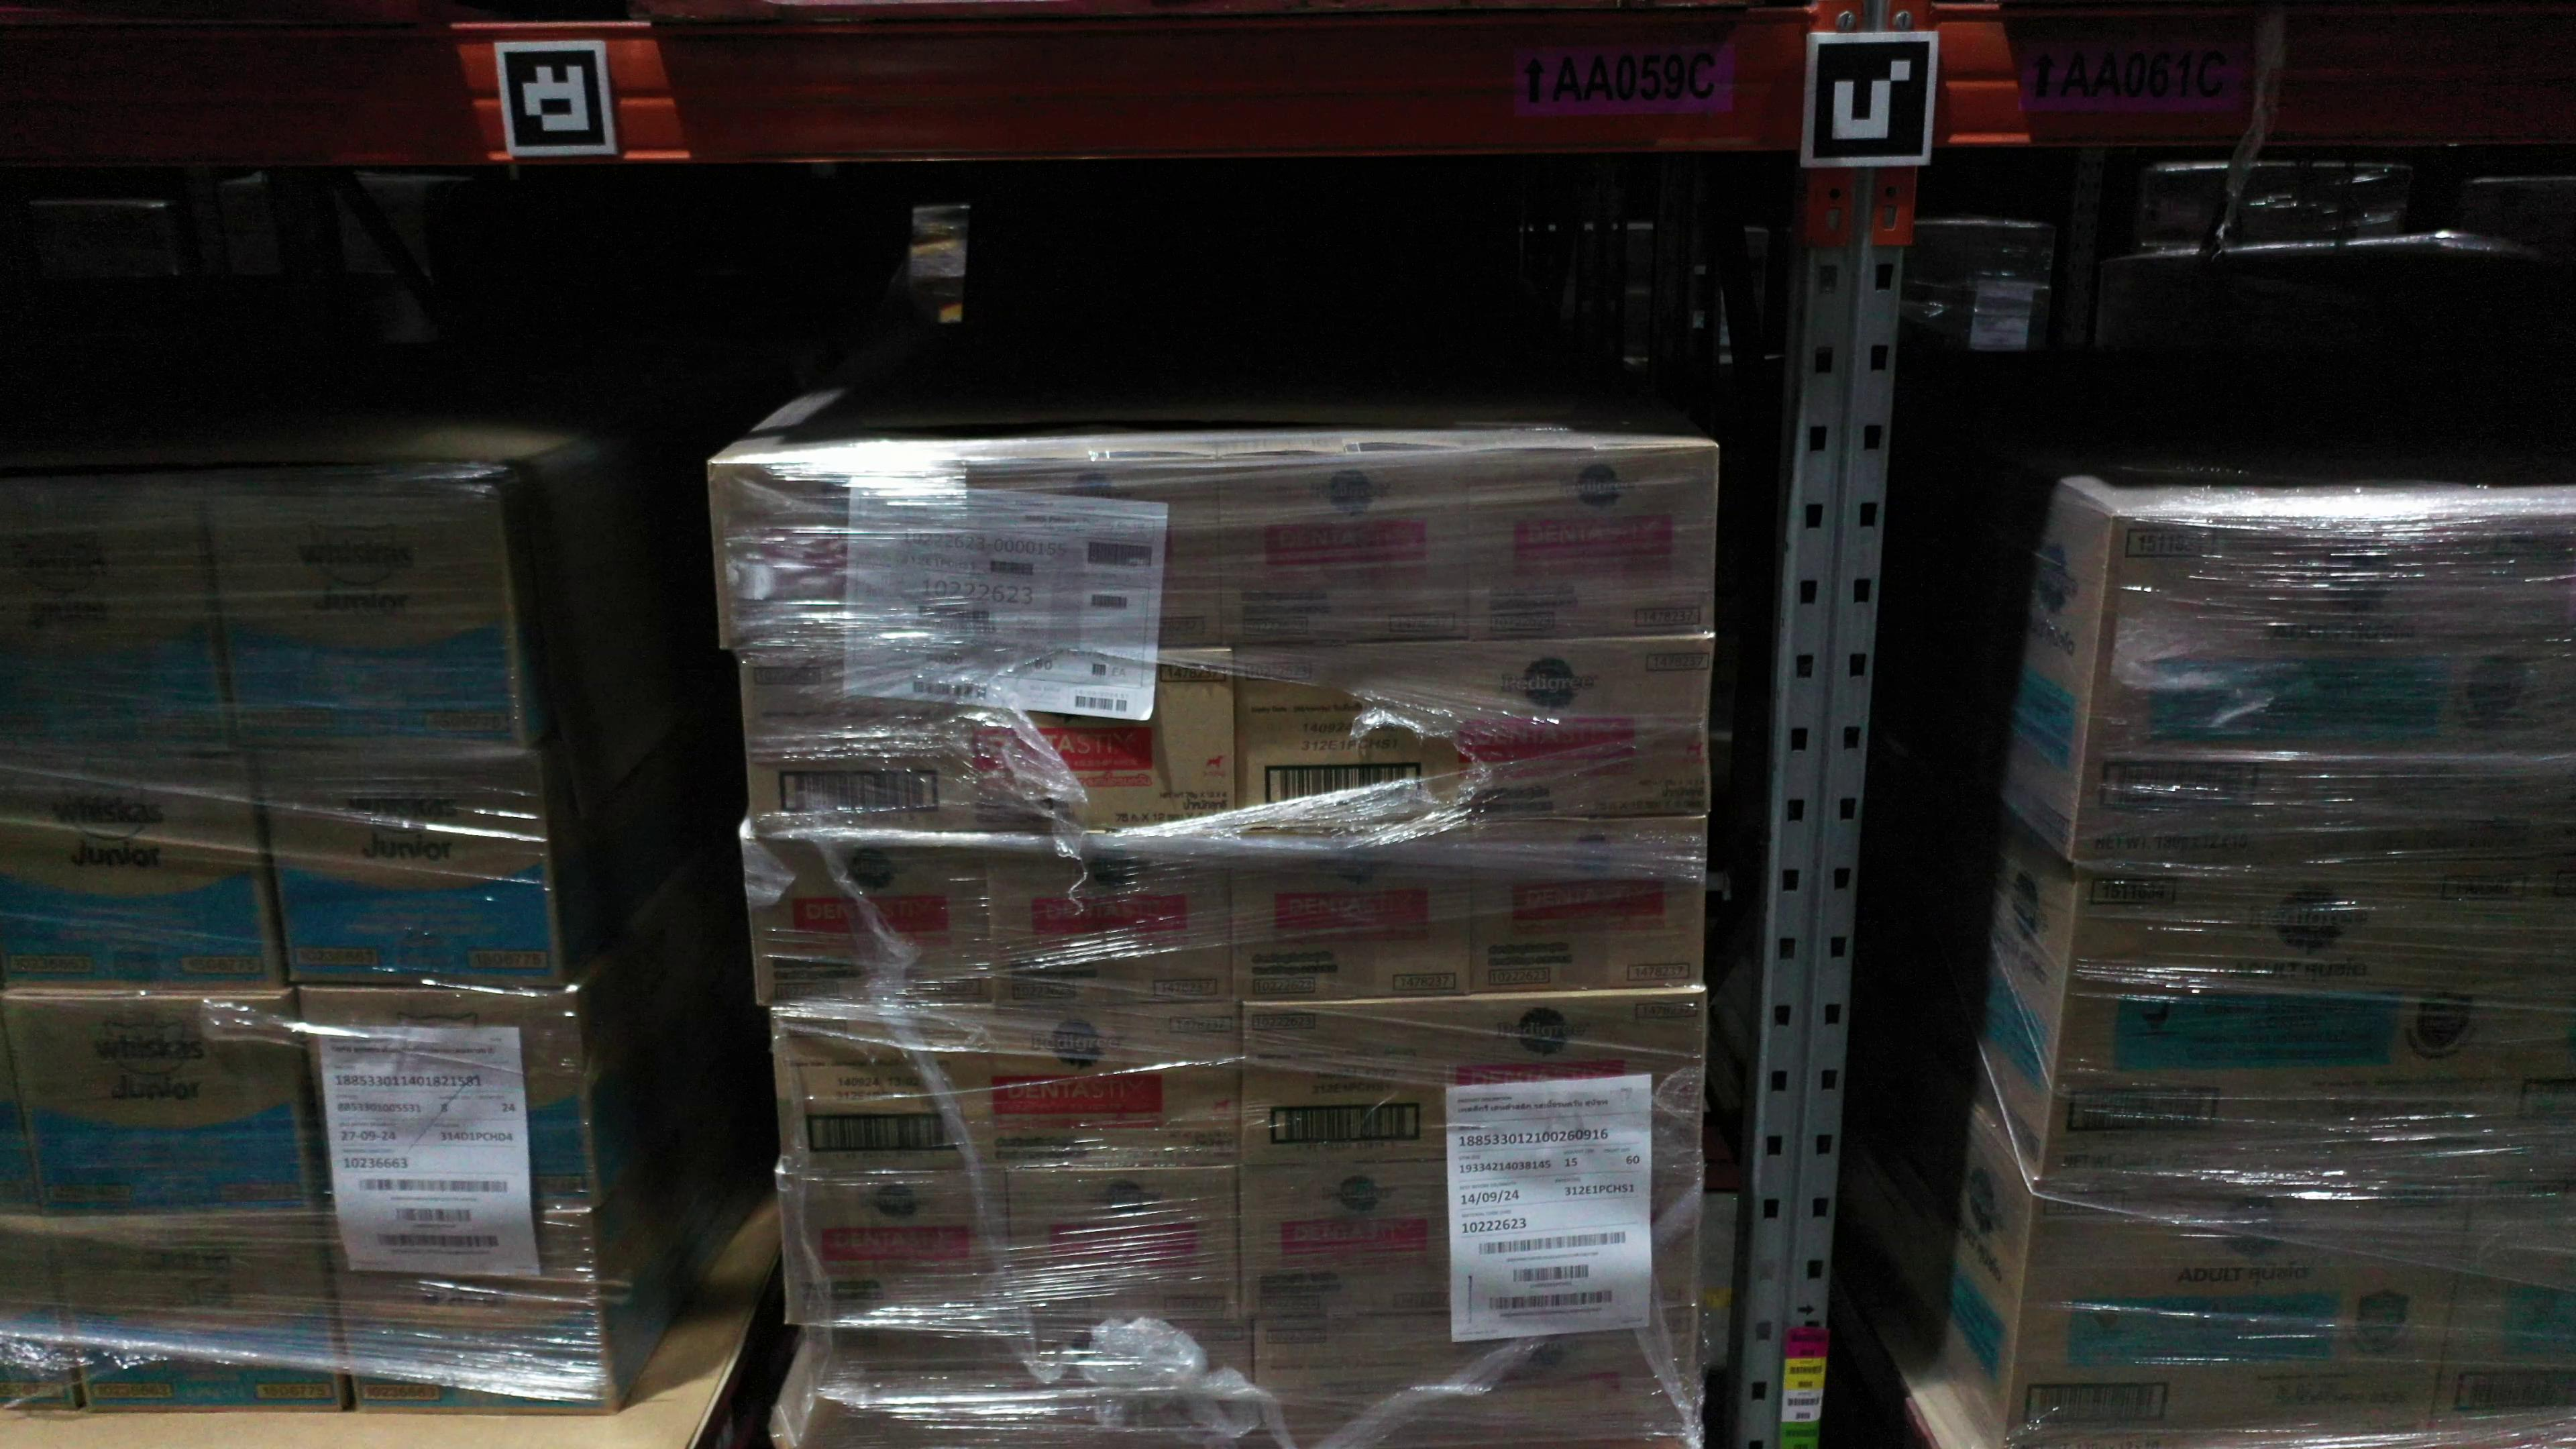-: (2066, 510, 2576, 870), (2042, 858, 2576, 1184), (2006, 1178, 2480, 1447), (738, 642, 1235, 839), (1237, 635, 1720, 832), (202, 494, 531, 761), (1235, 989, 1704, 1169), (773, 1003, 1238, 1180), (1235, 1152, 1702, 1322), (260, 748, 566, 993), (0, 998, 315, 1219), (295, 984, 593, 1217), (0, 755, 281, 991), (0, 494, 237, 757), (324, 1212, 625, 1417), (1253, 1307, 1695, 1440), (44, 1221, 345, 1414), (805, 1323, 1261, 1442), (709, 460, 971, 653), (966, 455, 1219, 651), (1219, 451, 1474, 646), (1468, 448, 1720, 642), (740, 832, 994, 1019), (984, 828, 1228, 1017), (1230, 821, 1468, 1003), (1468, 814, 1709, 994), (2433, 1171, 2576, 1438), (778, 1171, 1014, 1330), (1010, 1169, 1240, 1330), (0, 1226, 83, 1412)
